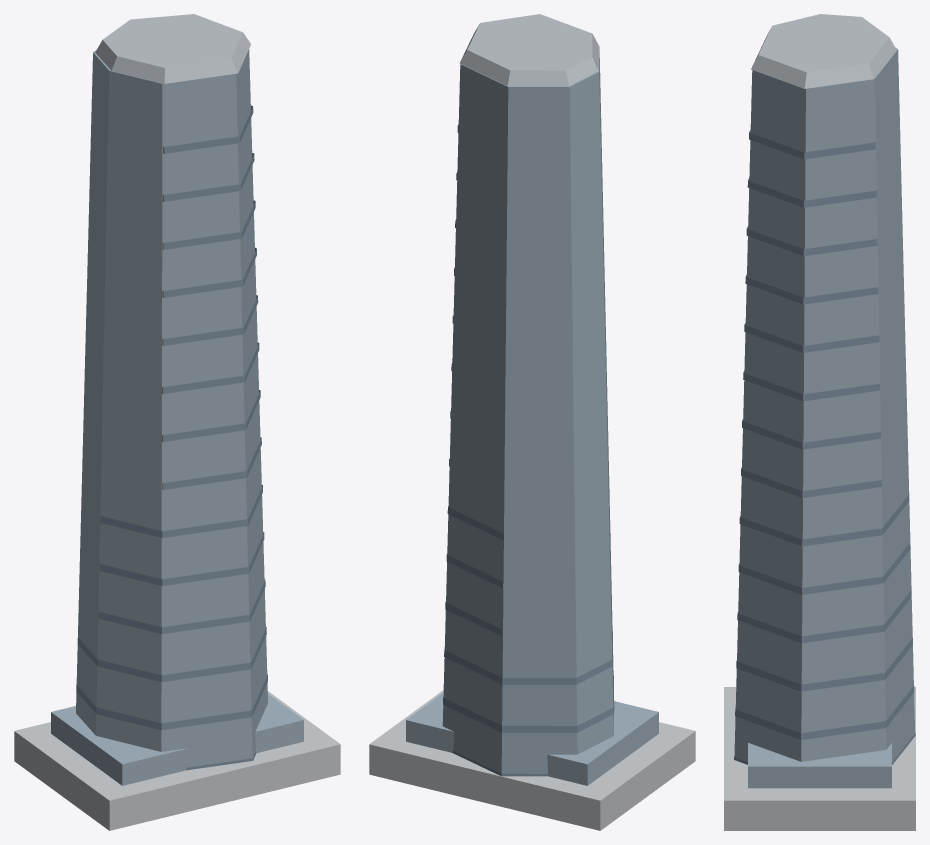
File: iberdrola.glb
The picture shows the model from 3 angles, left to right: view 1: azimuth 30°, elevation 25°; view 2: azimuth 150°, elevation 25°; view 3: azimuth 270°, elevation 25°; orthographic projection.
Bounding box in the file's own units: 56 × 168 × 40.
